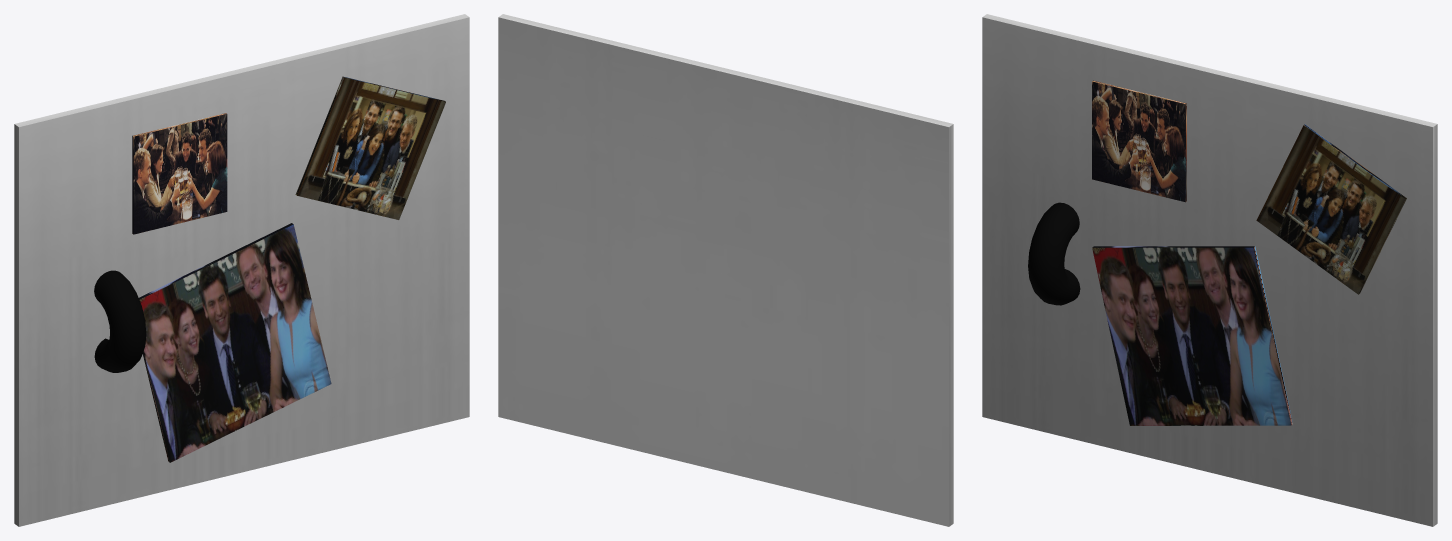
File: puerta.obj
3 views of the same model, side by side, from view 1: azimuth 30°, elevation 25°; view 2: azimuth 150°, elevation 25°; view 3: azimuth 330°, elevation 25° (orthographic).
Visible parts, largest first — view 1: pCube13; view 2: pCube13; view 3: pCube13.
Boxes of the visible parts, x1,y1,x2,y2 form: pCube13: [14, 14, 469, 526]; pCube13: [498, 14, 953, 526]; pCube13: [982, 14, 1437, 526].
Bounding box in the file's own units: 2.72 × 2.3 × 0.3798.
5 materials, 5 textured.
